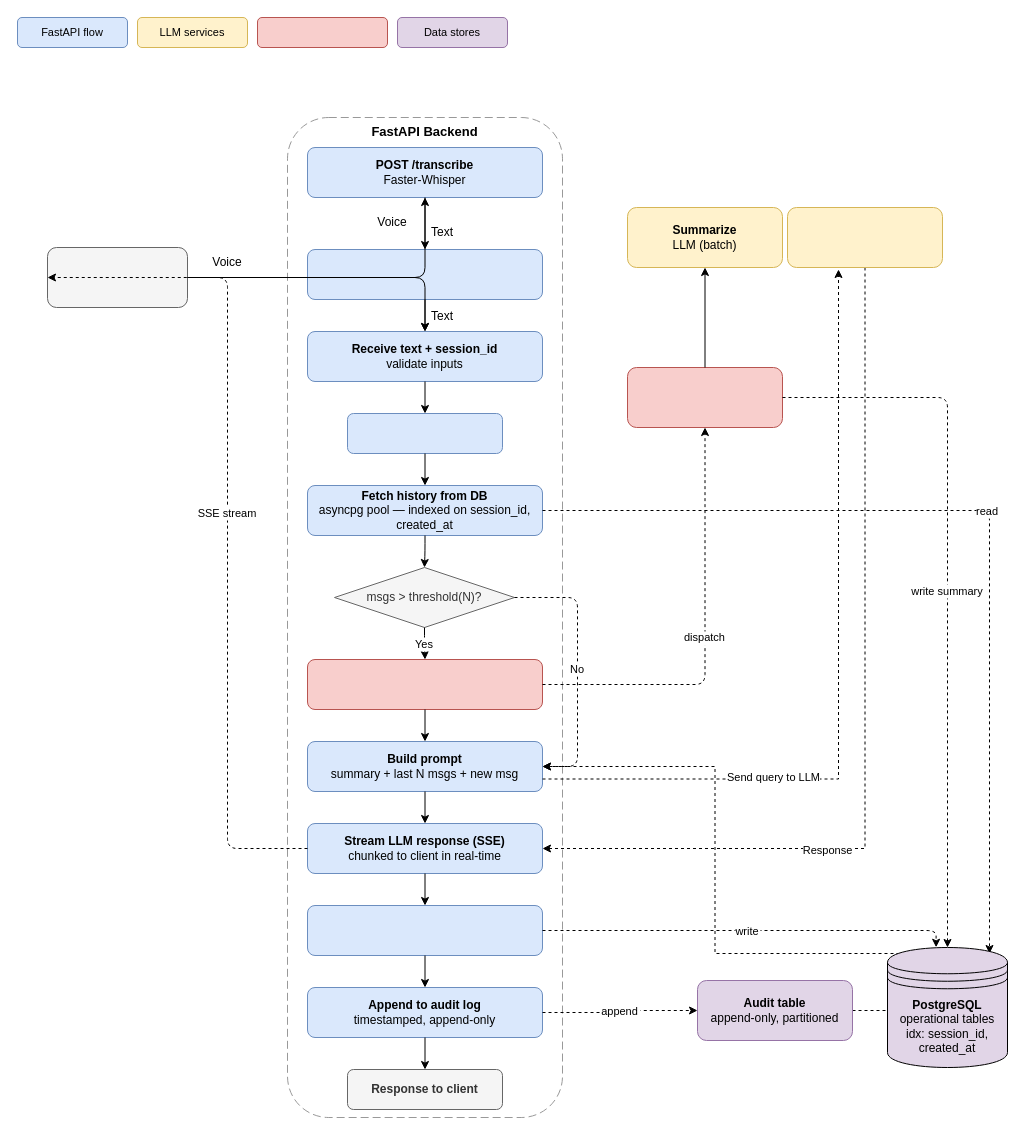
The diagram is 1025 pixels wide and 1135 high, and some of its shapes have lost their labels. The centre of each missing label's shape, as x and y in pixels:
"Auth / token validation JWT + session check" goes at (424,274).
"Background worker" goes at (322,32).
"Chat inference LLM (streaming)" goes at (864,237).
"Enqueue summarize job Celery / ARQ — async" goes at (424,684).
"Frontend Mobile / Web UI" goes at (117,277).
"POST /chat" goes at (424,433).
"Save turn to DB user msg + assistant reply" goes at (424,930).
"Worker Celery / ARQ" goes at (704,397).
